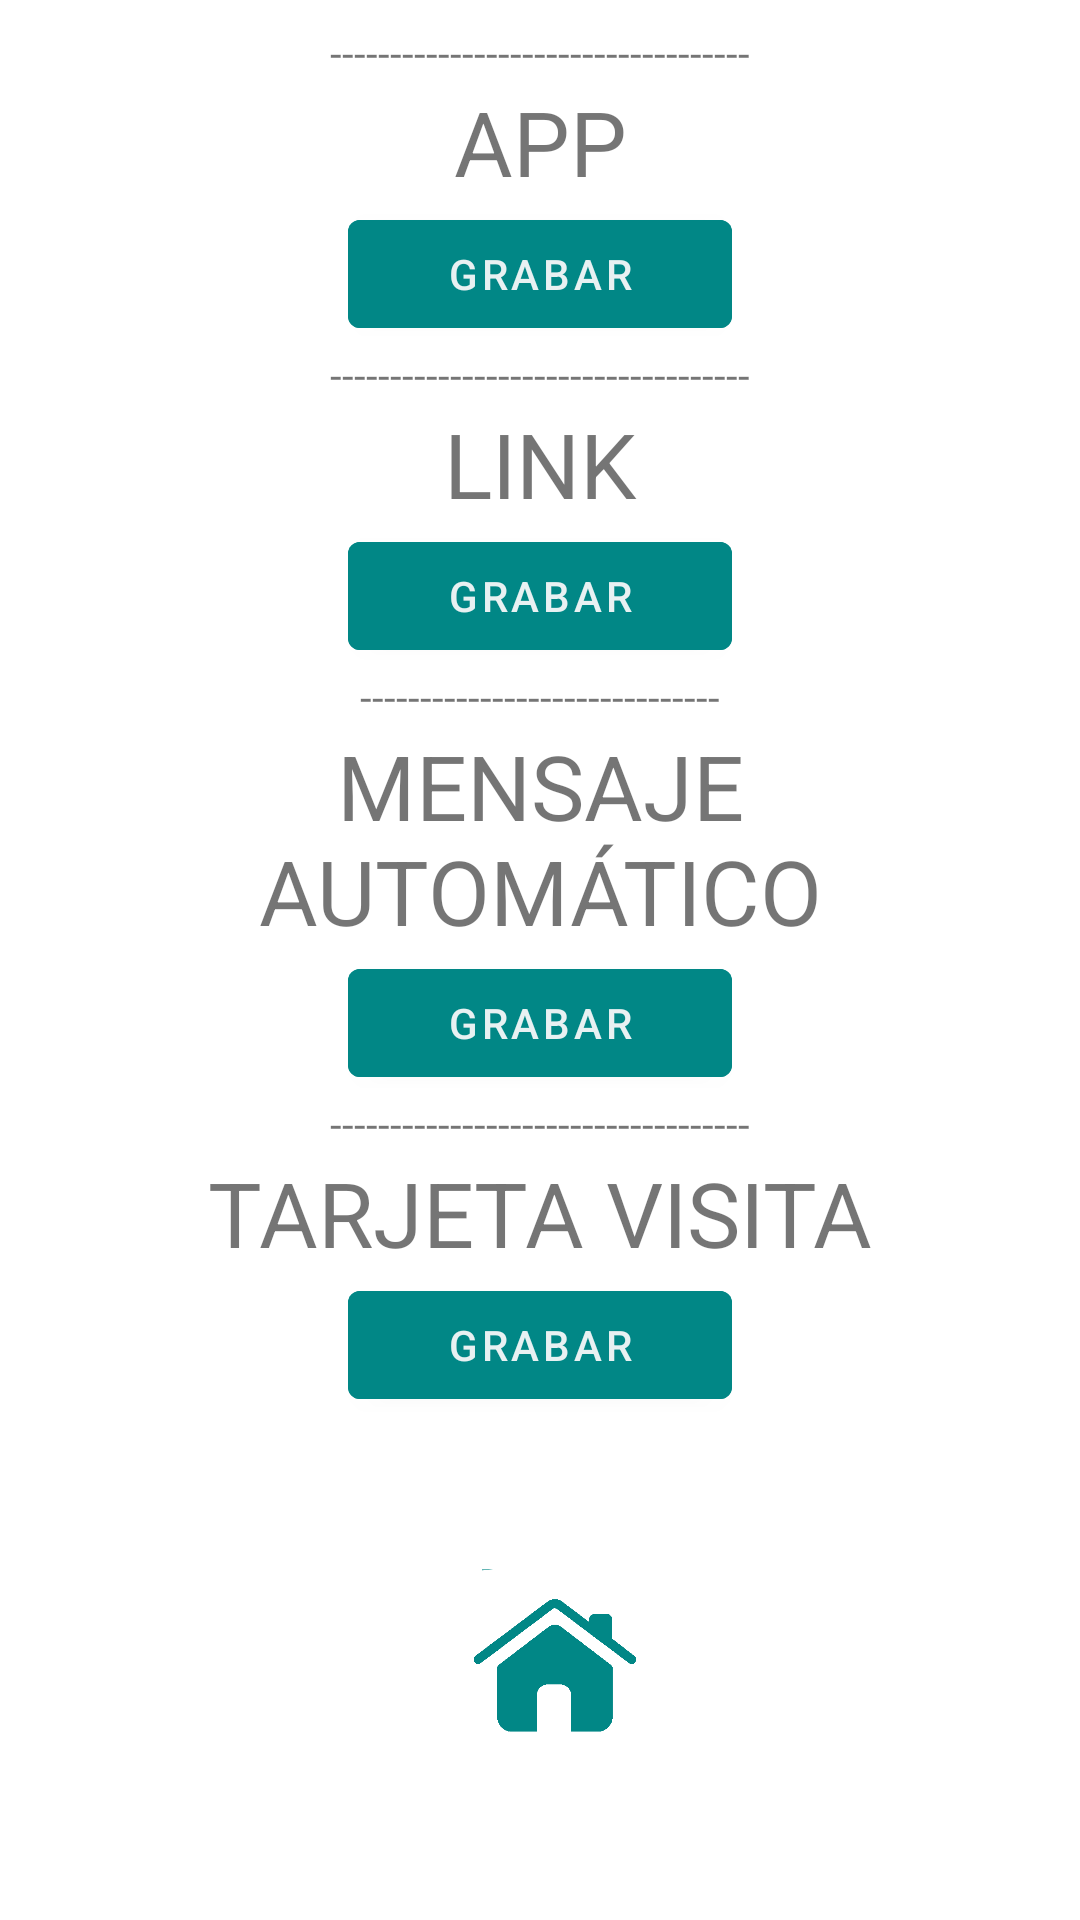

Locate icon controls on the screen. Image size 1080w x 1920h, boxes as bbox(x1, y1, x2, y2).
home: bbox(474, 1569, 636, 1732)
